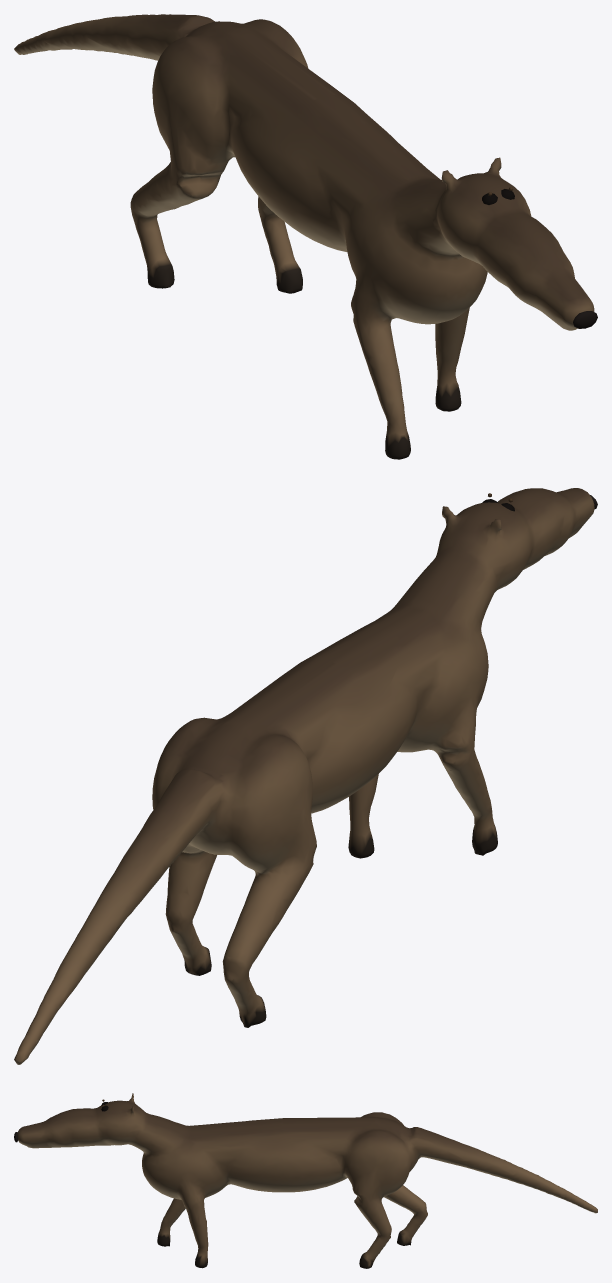
The model's file is PakicetusAttocki.fbx.
3 views of the same model, one above another, from view 1: azimuth 30°, elevation 25°; view 2: azimuth 150°, elevation 25°; view 3: azimuth 270°, elevation 25° (orthographic). The views are drawn at different scales.
Visible parts, largest first — view 1: PakicetusAttocki; view 2: PakicetusAttocki; view 3: PakicetusAttocki.
Part boxes in pixels (x1,y1,x2,y2): PakicetusAttocki: [14, 14, 597, 459]; PakicetusAttocki: [14, 488, 597, 1064]; PakicetusAttocki: [14, 1093, 597, 1268].
Bounding box in the file's own units: 0.3016 × 0.6392 × 2.16.
